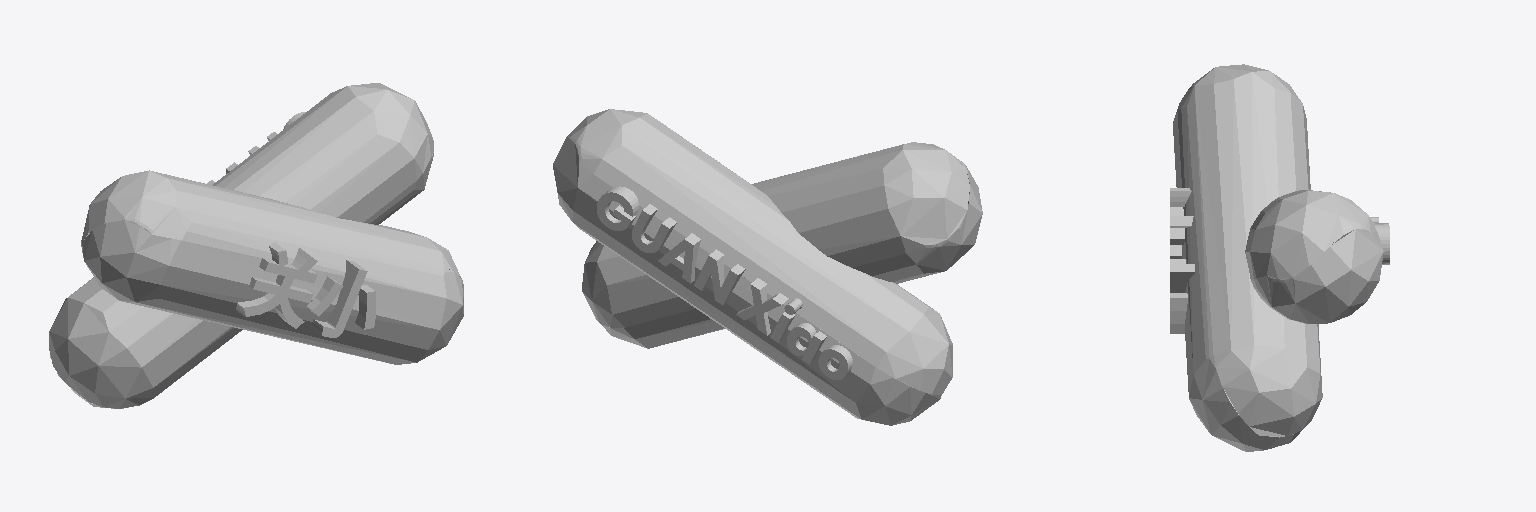
Rendered from GuanXiao2.obj.
3 renders of one model, left to right at view 1: azimuth 30°, elevation 25°; view 2: azimuth 150°, elevation 25°; view 3: azimuth 270°, elevation 25°, orthographic.
Parts seen in each view (by area): view 1: root_3, root_2, node_id247; view 2: root_2, root_3, node_id258; view 3: root_3, root_2, node_id247.
Boxes of the visible parts, x1=… form: root_3: x1=81, y1=170, x2=463, y2=364; root_2: x1=49, y1=83, x2=433, y2=408; node_id247: x1=236, y1=242, x2=375, y2=337; root_2: x1=553, y1=109, x2=952, y2=425; root_3: x1=582, y1=142, x2=982, y2=348; node_id258: x1=597, y1=186, x2=852, y2=380; root_3: x1=1173, y1=64, x2=1322, y2=451; root_2: x1=1245, y1=190, x2=1383, y2=323; node_id247: x1=1170, y1=188, x2=1194, y2=333.
Bounding box in the file's own units: 0.289 × 0.1836 × 0.1467.